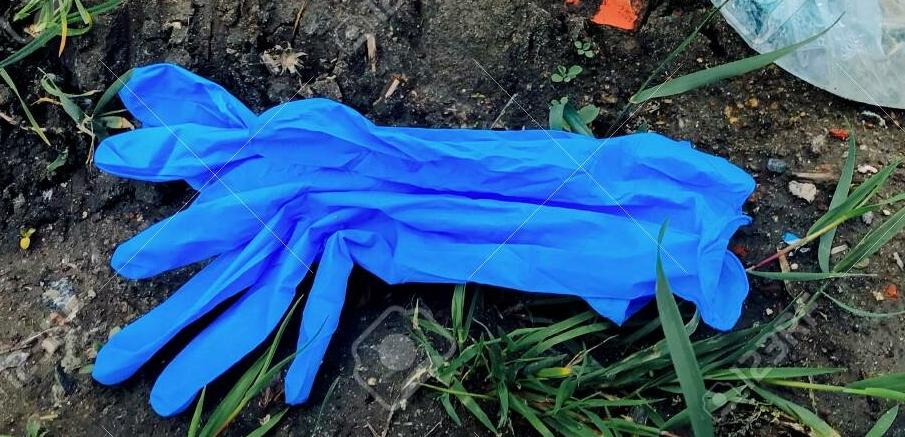gloves: (87, 55, 753, 437)
